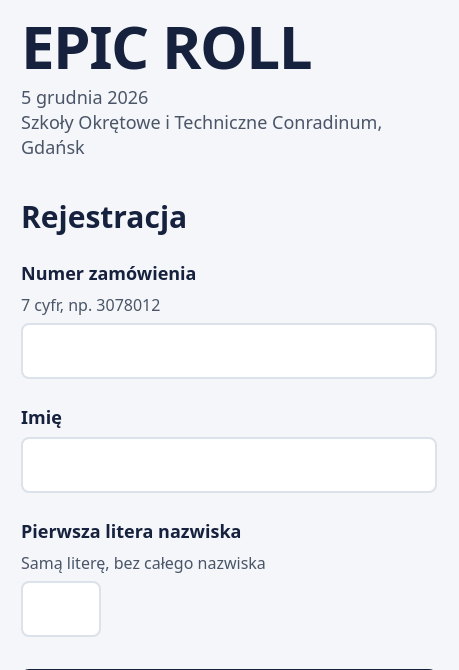
it: App › SERVER: komunikat o braku połączenia (T6)
This screenshot has width=459, height=670.
Type "3023 567" into the field labelled "Numer zamówienia" at (229, 351), box [21,323,437,379]
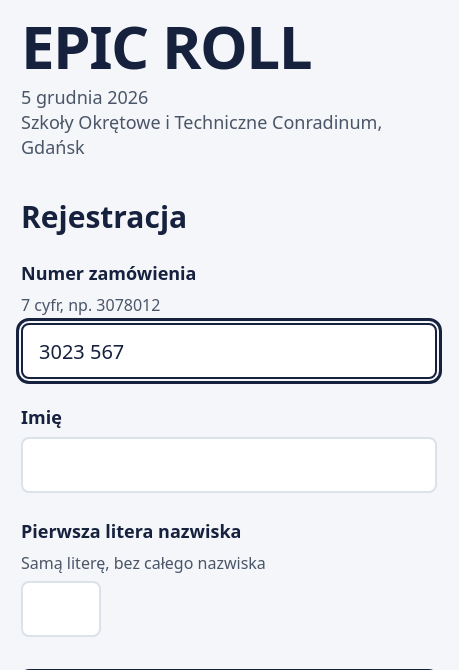
Type " Jasmina " into the field labelled "Imię" at (229, 465), box [21,437,437,493]
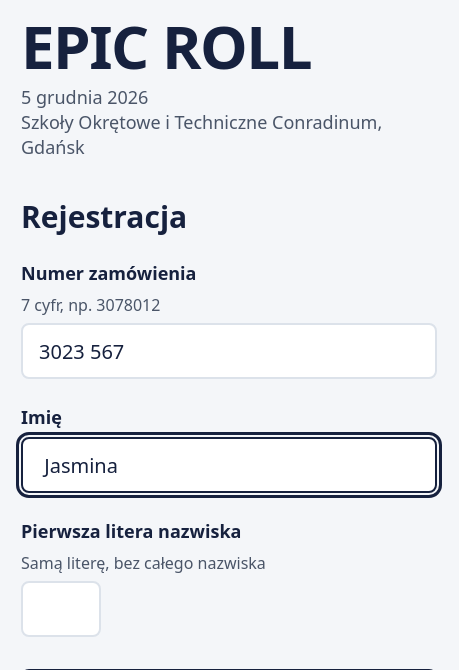
Type "k" into the field labelled "Pierwsza litera nazwiska" at (61, 609), box [21,581,101,637]
(page scrolled)
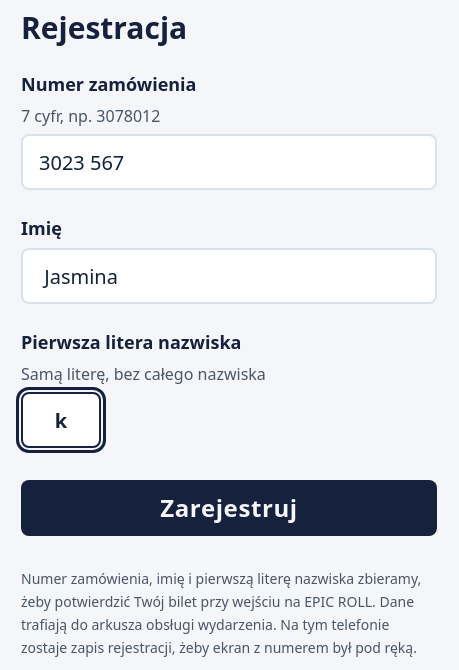
Click the button "Zarejestruj" at (229, 508), box [21,480,437,536]
(page scrolled)
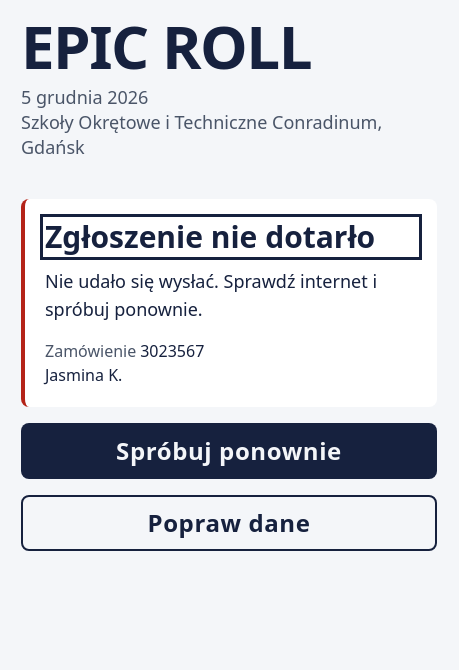
Now the message reads "Nie udało się wysłać. Sprawdź internet i spróbuj ponownie.", box [45,269,377,321]
